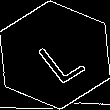L_NW: (25, 26, 85, 84)
